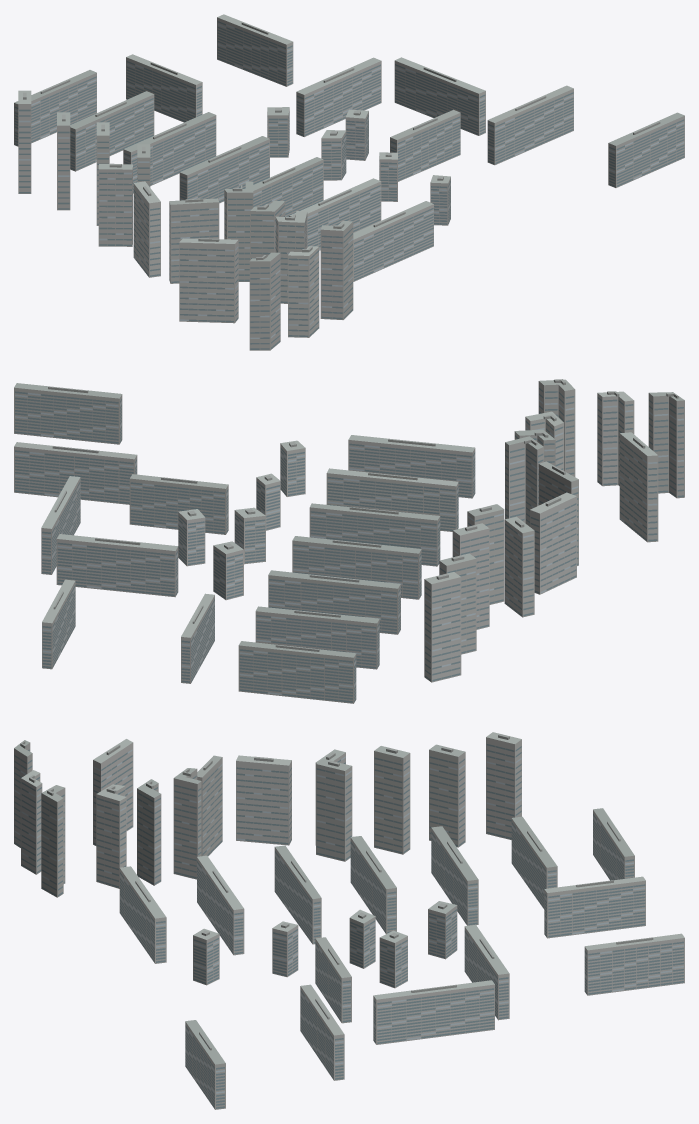
The model's file is apt-a13879102.glb.
The picture shows the model from 3 angles, top to bottom: view 1: azimuth 30°, elevation 25°; view 2: azimuth 150°, elevation 25°; view 3: azimuth 270°, elevation 25°; orthographic projection. The views are drawn at different scales.
Parts seen in each view (by area): view 1: apt-a13879102; view 2: apt-a13879102; view 3: apt-a13879102.
Part boxes in pixels (bbox=[...]): apt-a13879102: bbox=[14, 14, 684, 350]; apt-a13879102: bbox=[14, 379, 684, 703]; apt-a13879102: bbox=[14, 732, 684, 1109].
Size of the model in its own units: 619 by 100 by 613.
